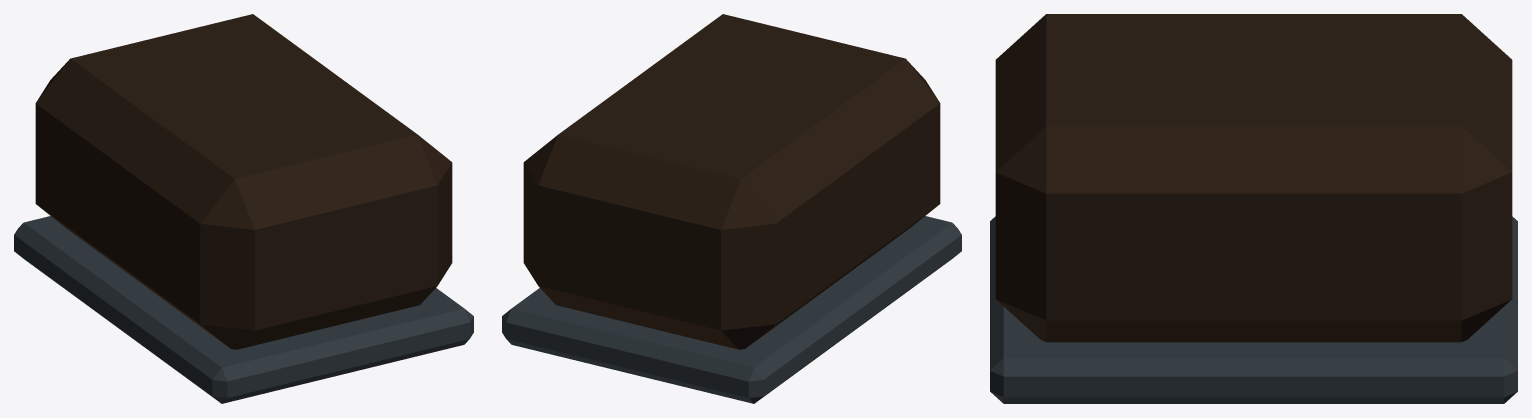
File: LegFrontLeftHoof.glb
3 views of the same model, side by side, from view 1: azimuth 30°, elevation 25°; view 2: azimuth 150°, elevation 25°; view 3: azimuth 270°, elevation 25° (orthographic). The views are drawn at different scales.
Parts seen in each view (by area): view 1: Sculpture; view 2: Sculpture; view 3: Sculpture.
Part boxes in pixels (box(x1,y1,x2,y2)): Sculpture: box(14, 14, 473, 403); Sculpture: box(502, 14, 961, 403); Sculpture: box(990, 14, 1517, 403).
Bounding box in the file's own units: 0.166 × 0.1245 × 0.23.
